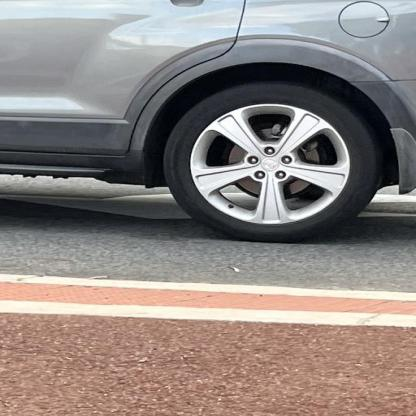Tire: (162, 84, 381, 242)
